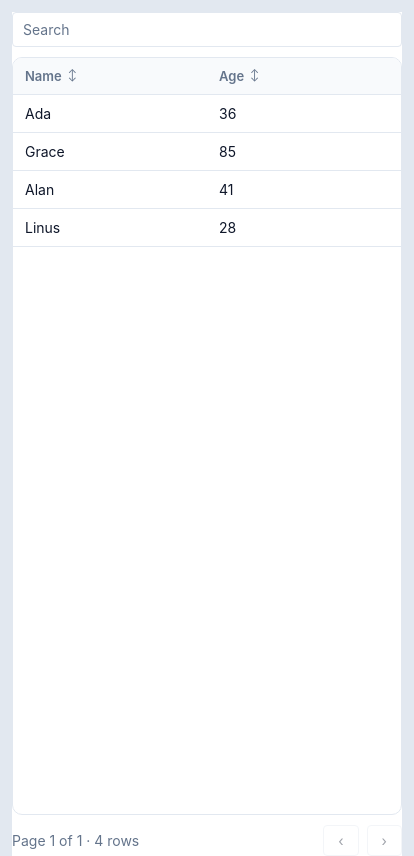
Test case: <DataTable /> (react-native) — client mode › filters rows through the global search input
Type "gra" into the field labelled "Search". click: (207, 30)
box: [12,12,402,47]
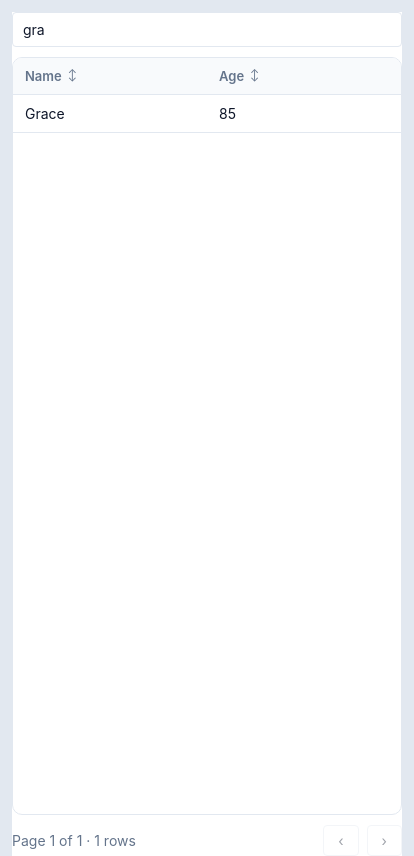
Expected: the text "Grace" is shown, [25,105,65,122]
Expected: the text "Ada" is gone
